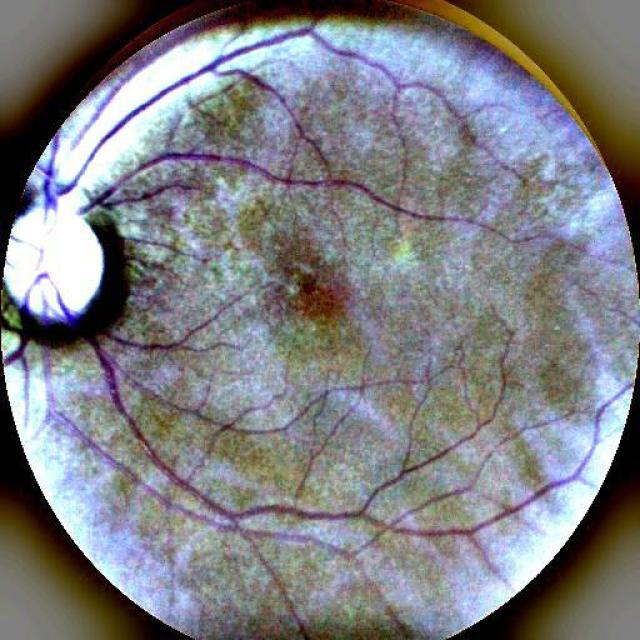Macula: (282, 261, 335, 314)
Nerves: (10, 42, 261, 326), (81, 324, 206, 504), (74, 151, 188, 218), (82, 439, 172, 505), (70, 70, 139, 150), (6, 320, 31, 416), (41, 350, 55, 406)
Optic Disk: (5, 205, 103, 327)
